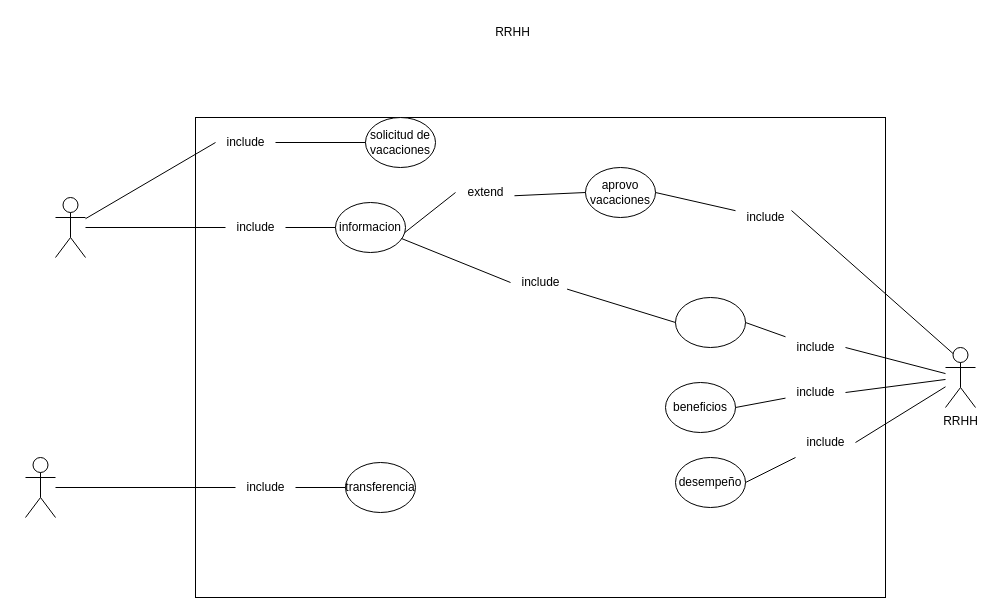
Image size: 995x615. Some labels were removed from this diagram. Each missing label, with the centre of its shape:
contador: the point at 40,487
empleado: the point at 70,227
registro empleado: the point at 710,322
